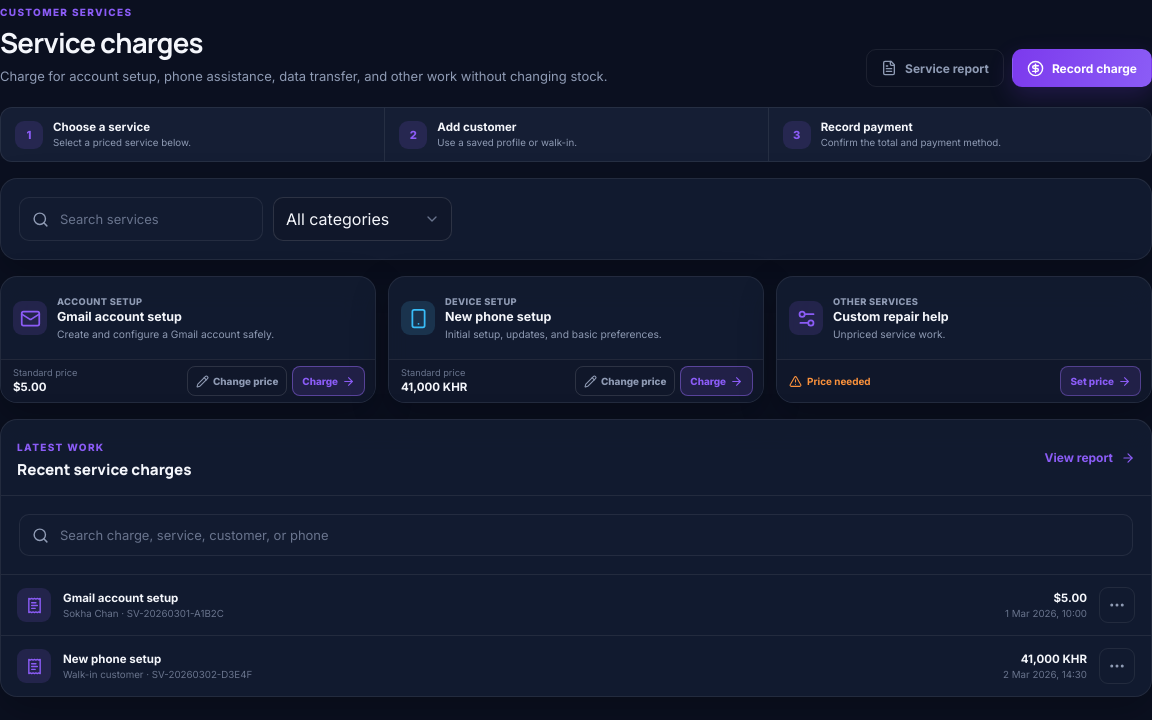
Scenario: ServiceWorkspace › lets a manager correct service warranty and work notes with a required audit reason
Click the button named "View SV-20260301-A1B2C" at x=1117, y=605, box 1099,587 -> 1135,623
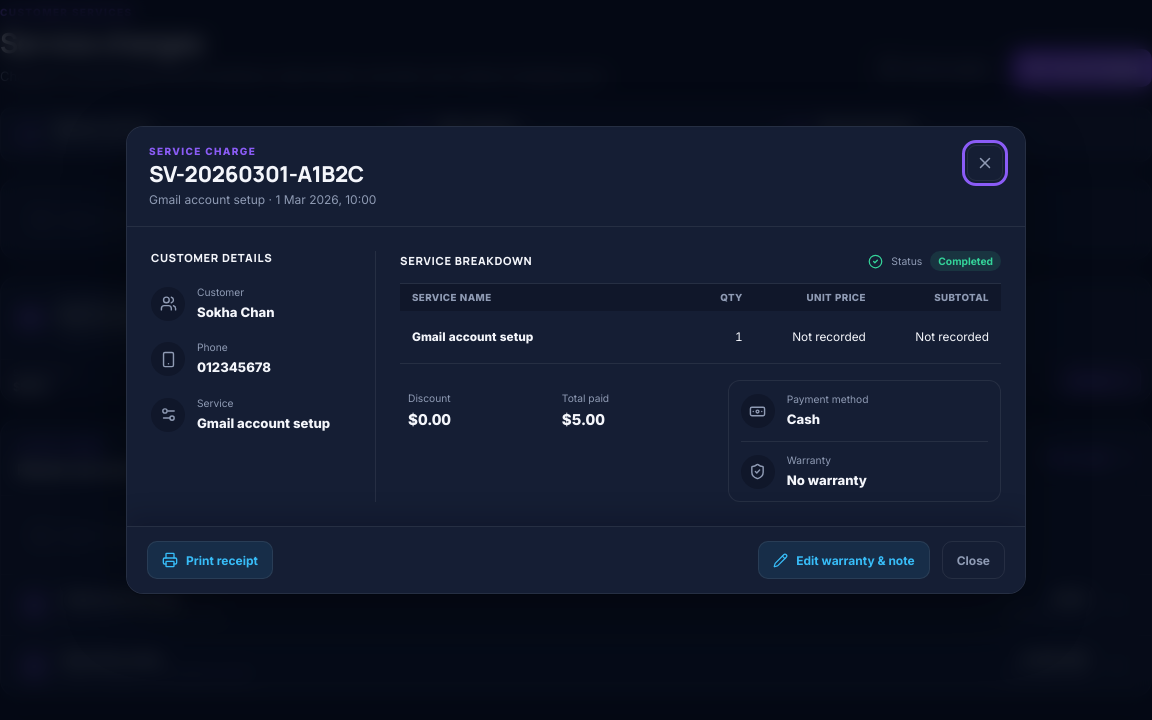
Click the button "Edit warranty & note" at x=844, y=560, box 758,541 -> 930,579
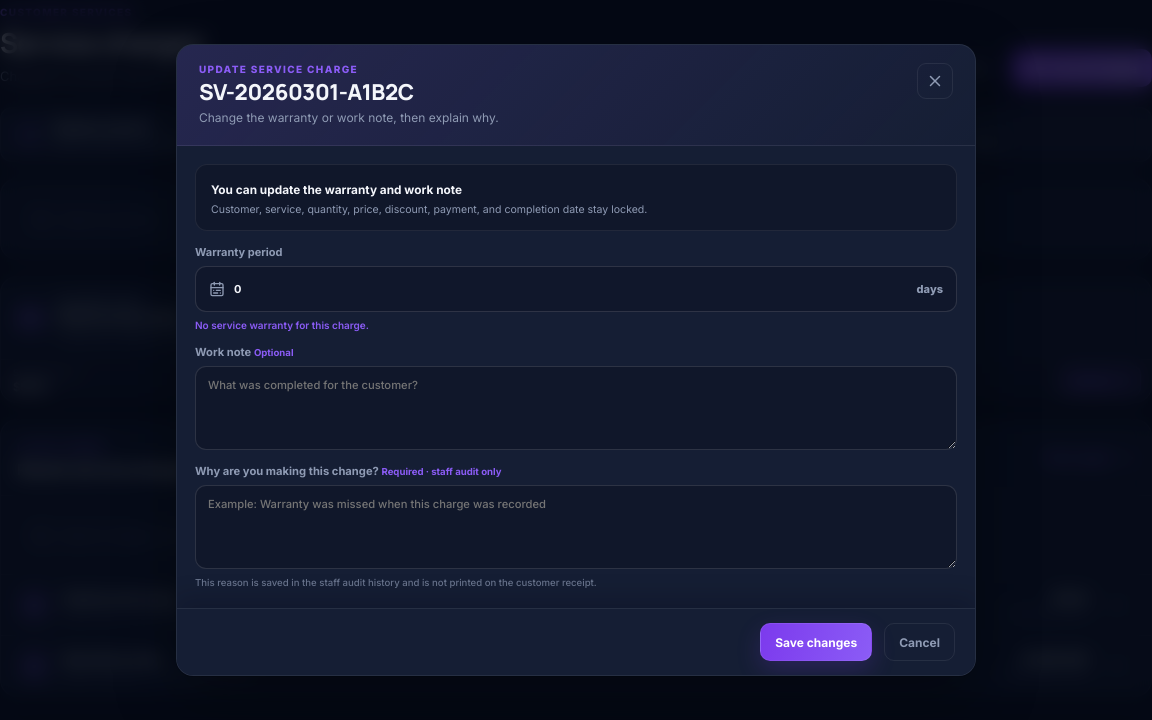
Expected: the text "You can update the warranty and work note" is shown, 211,182 -> 462,196
Expected: the text "Customer, service, quantity, price, discount, payment, and completion date stay locked" is shown, 211,202 -> 647,216
Expected: the text "not printed on the customer receipt" is shown, 195,577 -> 597,588
Replace the text in the number field named "Warranty period in days" with "30" at x=571, y=289, box 234,267 -> 908,311
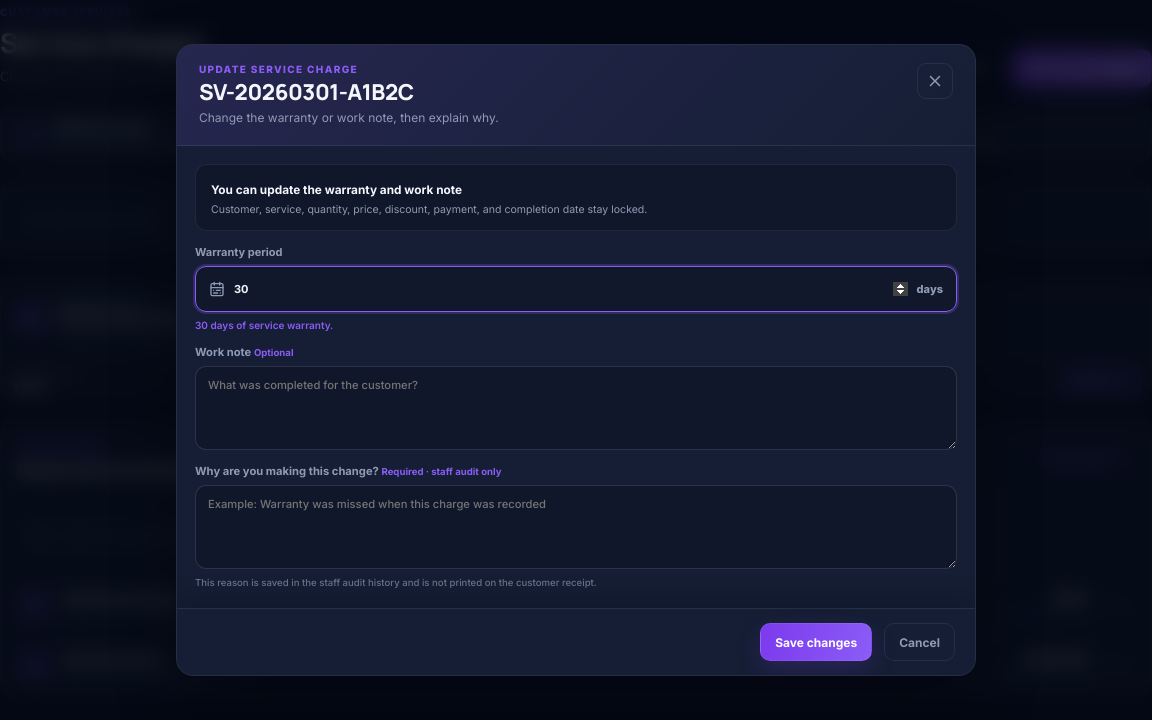
Type "Warranty confirmed with customer" into the text box with placeholder "What was completed for the customer?" at x=576, y=408, box 195,366 -> 957,450
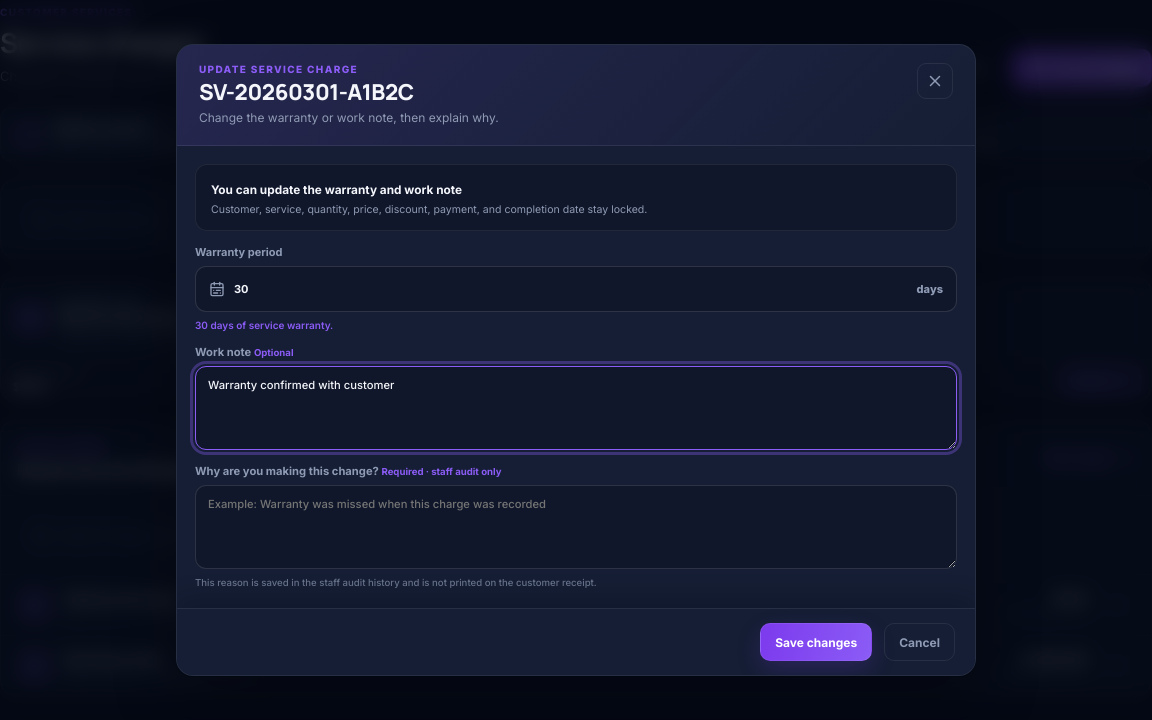
Type "Warranty omitted during checkout" into the text box with placeholder "Example: Warranty was missed when this charge was recorded" at x=576, y=527, box 195,485 -> 957,569
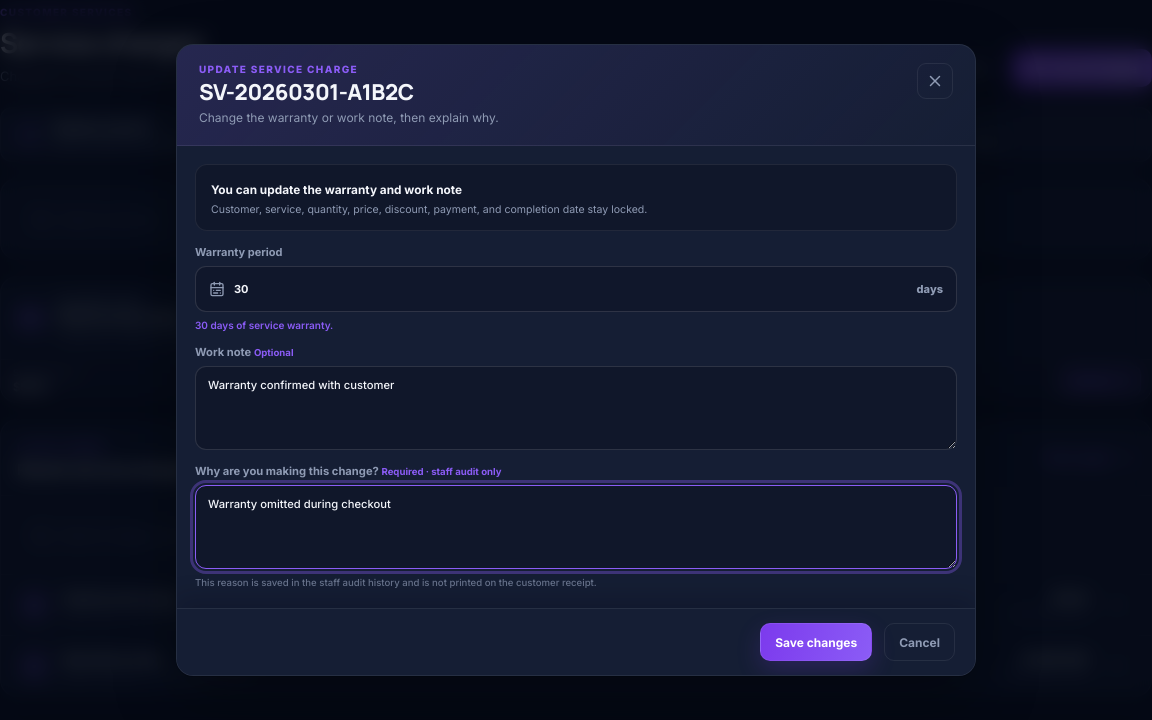
Click the button "Save changes" at x=816, y=642, box 760,623 -> 872,661
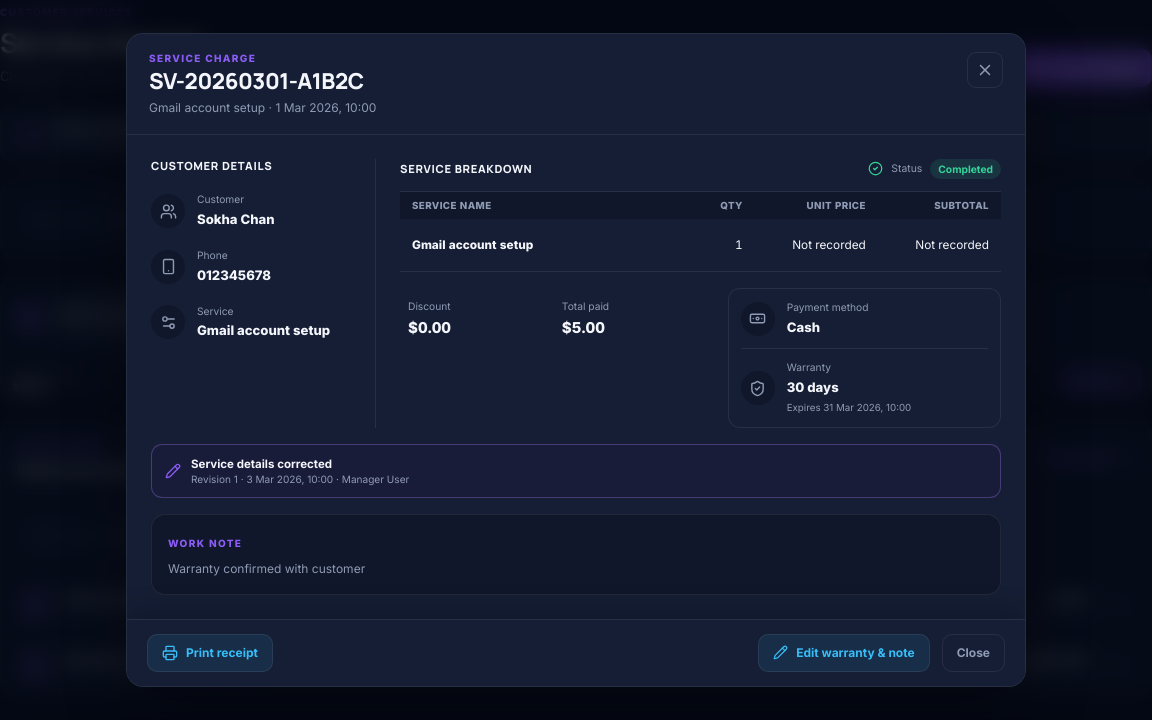
Expected: the text "30 days" is shown, 787,379 -> 839,395
Expected: the text "Service details corrected" is shown, 191,457 -> 332,471
